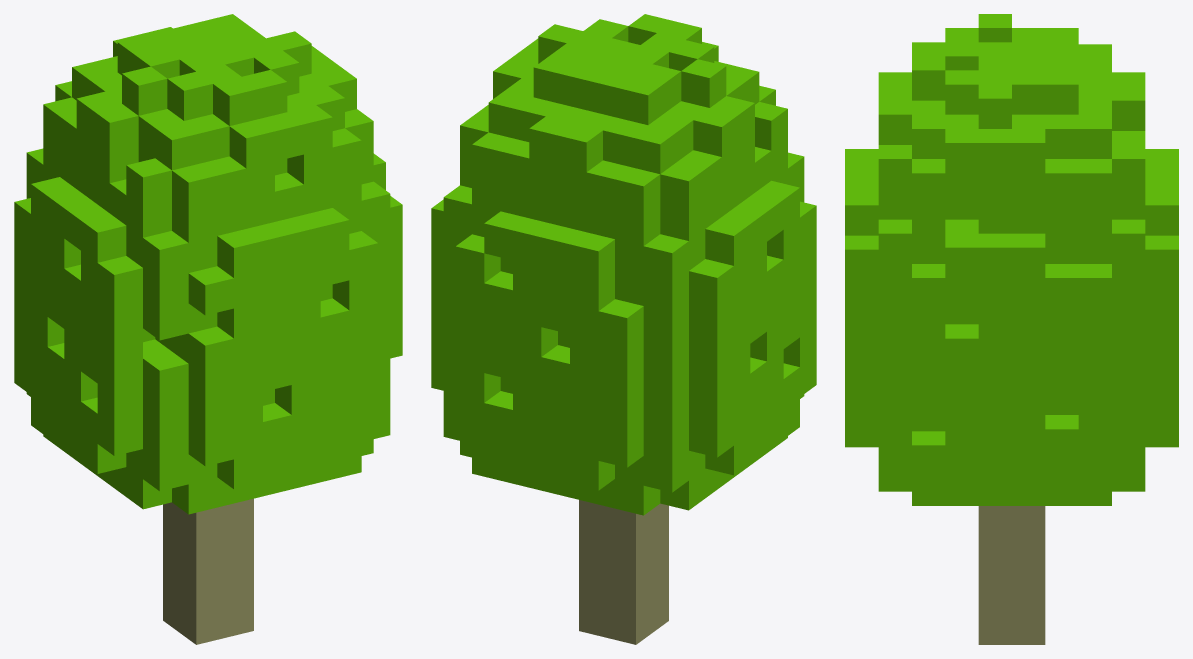
Rendered from obj_tree2.fbx.
3 renders of one model, left to right at view 1: azimuth 30°, elevation 25°; view 2: azimuth 150°, elevation 25°; view 3: azimuth 270°, elevation 25°, orthographic.
Visible parts, largest first — view 1: obj_tree2; view 2: obj_tree2; view 3: obj_tree2.
Part boxes in pixels (<box>): obj_tree2: <box>14,14,402,644</box>; obj_tree2: <box>431,14,816,644</box>; obj_tree2: <box>845,14,1178,644</box>.
Bounding box in the file's own units: 1 × 1 × 1.9.
Materials: 1 (1 with a texture image).
